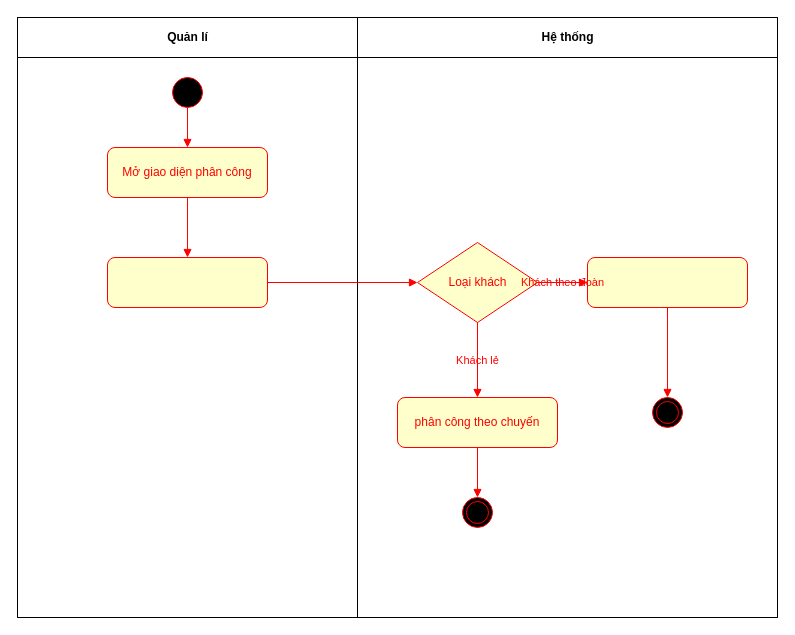
This 795x635 diagram has some shape labels left out. The centre of each missing label's shape, as x and y in pixels:
"Phân công nhân viên" belongs at [187,282].
"phân công theo đoàn" belongs at [667,282].
